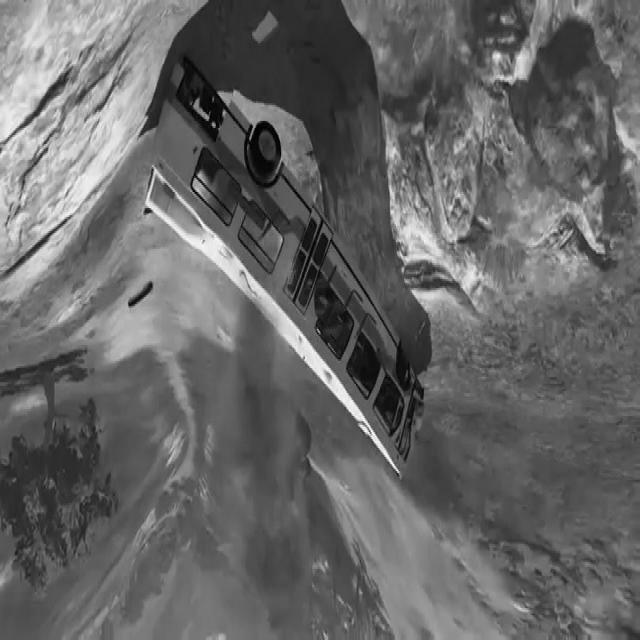moderate: (133, 48, 430, 492)
